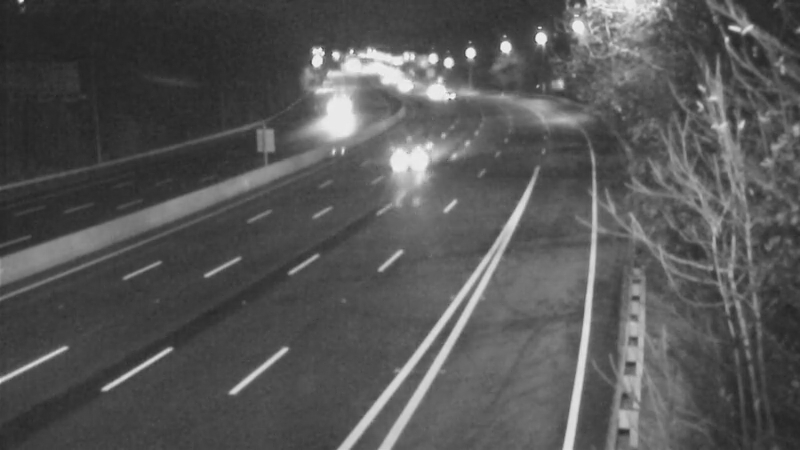vehicle: (371, 120, 451, 200), (408, 65, 458, 115), (422, 71, 472, 121), (308, 87, 358, 137)
